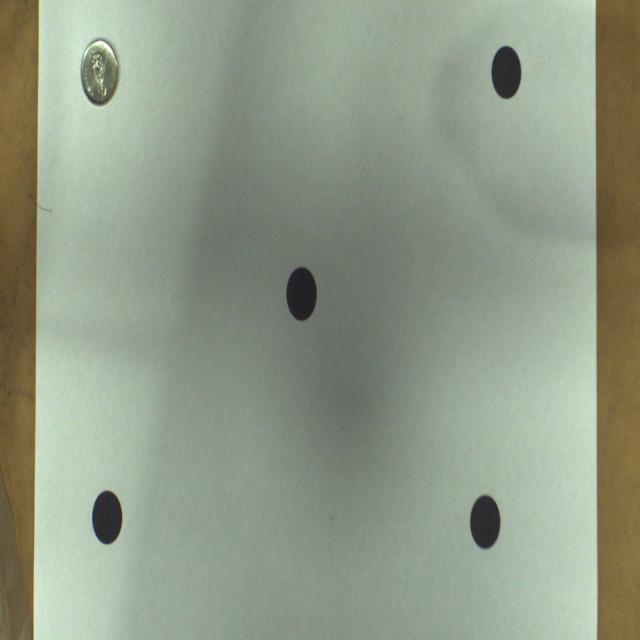space: (286, 267, 318, 320), (491, 47, 521, 100), (470, 496, 500, 549), (92, 491, 122, 544)
tail1bath: (81, 40, 119, 104)
